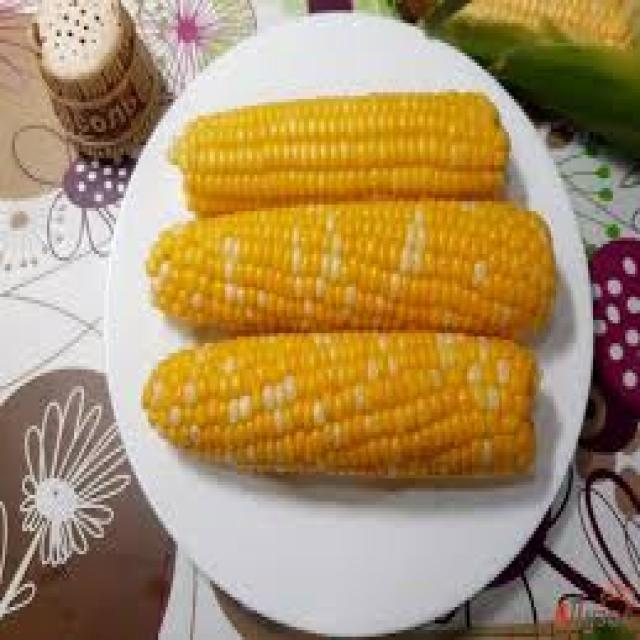corn: (142, 191, 572, 351), (138, 328, 555, 478), (158, 76, 518, 214), (440, 0, 640, 165)
